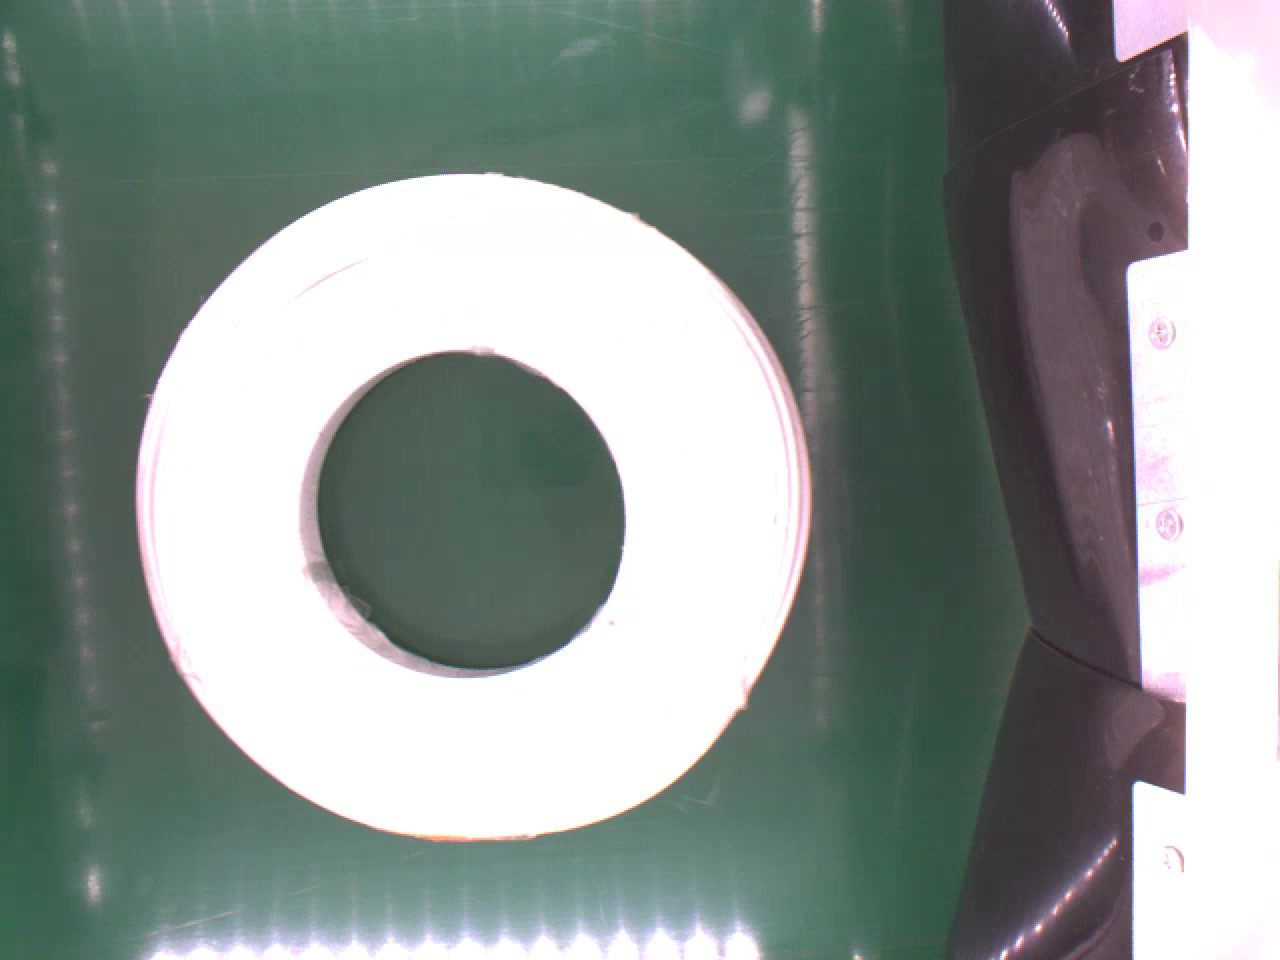white: (134, 170, 815, 843)
